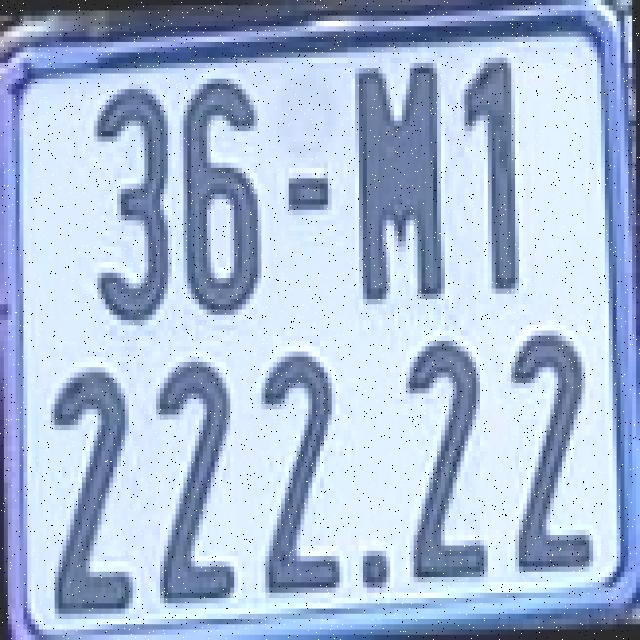1: (460, 55, 530, 291)
2: (152, 349, 242, 606), (402, 330, 492, 582), (256, 346, 346, 598), (46, 362, 136, 614), (507, 322, 597, 574)
3: (90, 84, 172, 325)
6: (178, 73, 268, 315)
M: (351, 58, 449, 304)
